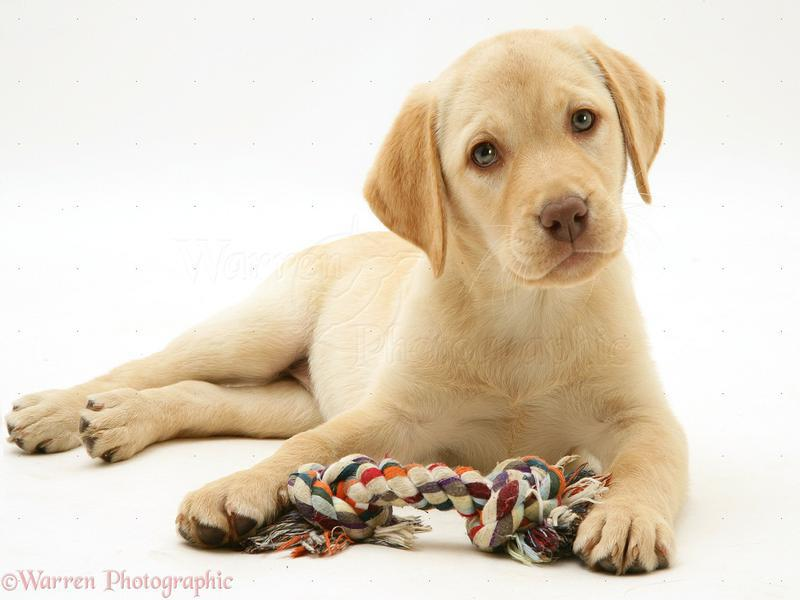dog_down: (6, 32, 699, 579)
